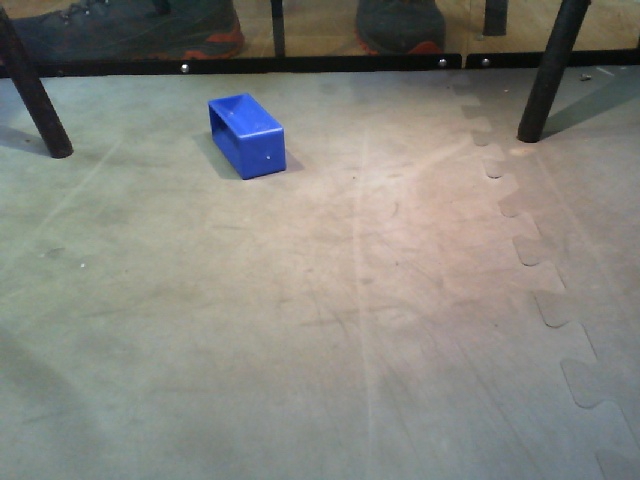BlueSample: (205, 90, 287, 182)
